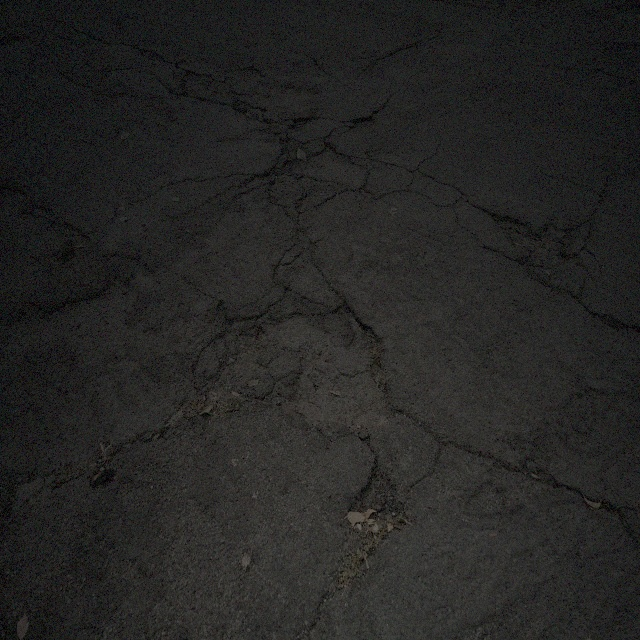pothole: (199, 290, 394, 440), (328, 447, 411, 592), (491, 207, 568, 285)
